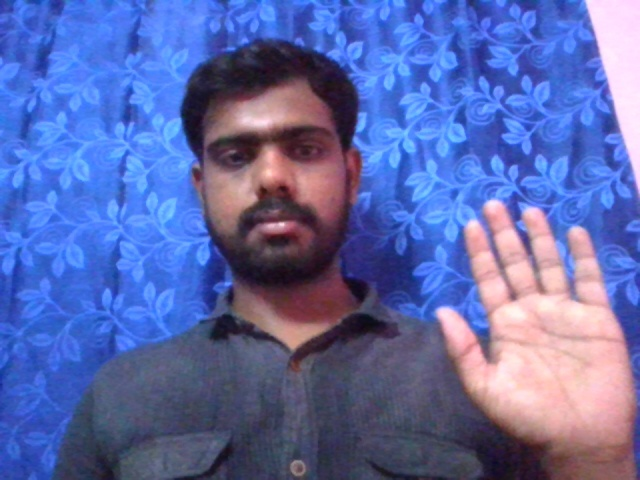Hello: (433, 196, 633, 453)
